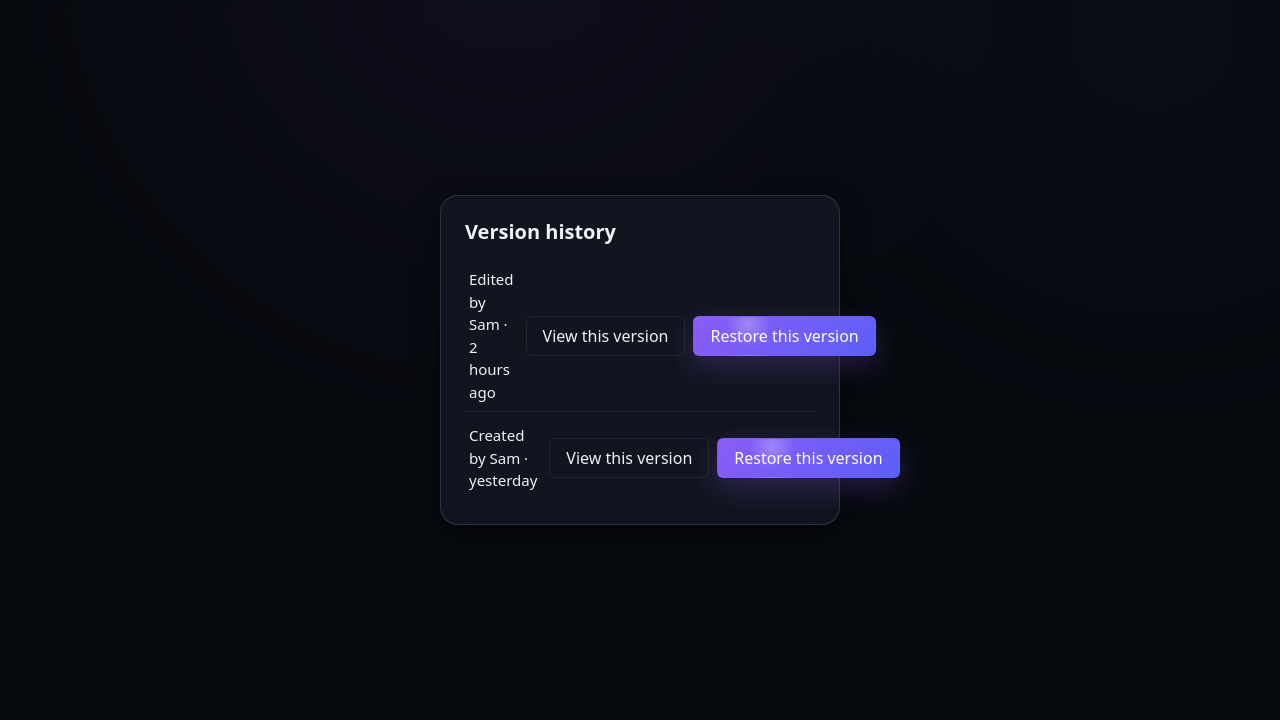
Test: HistoryPanel › opens the RestoreConfirmDialog from 'Restore this version'
Click the button "Restore this version" in the row of "Created". click: [808, 458]
box: [717,438,900,478]
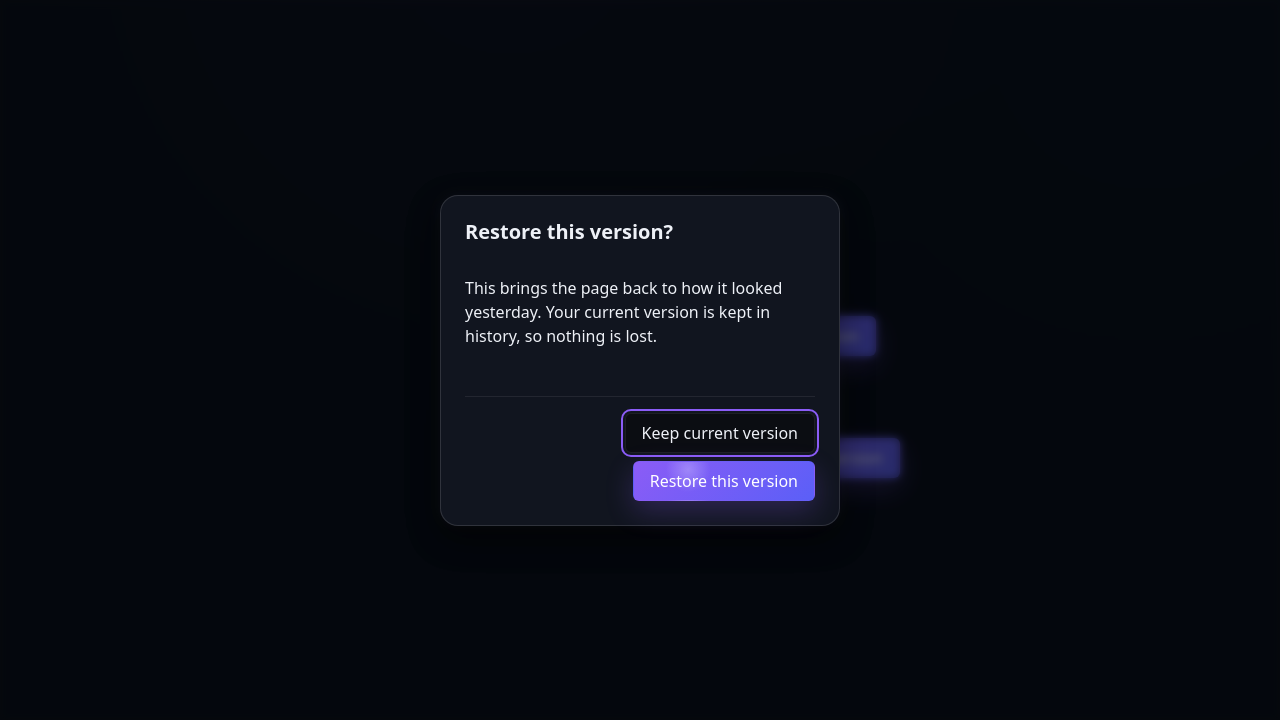
Check: the heading "Restore this version?" is shown, box [465,218,673,244]
Check: the text "Your current version is kept in history" is shown, box [465,300,770,346]
